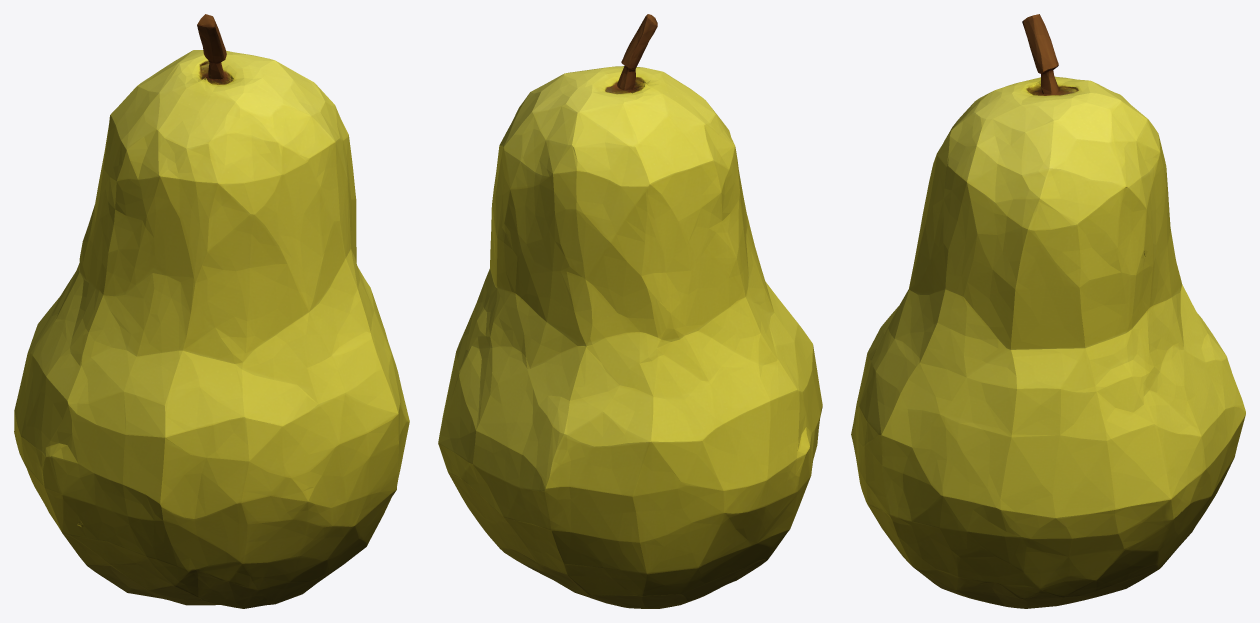
3 renders of one model, left to right at view 1: azimuth 30°, elevation 25°; view 2: azimuth 150°, elevation 25°; view 3: azimuth 270°, elevation 25°, orthographic.
Parts seen in each view (by area): view 1: geometry_0; view 2: geometry_0; view 3: geometry_0.
Part boxes in pixels (<box>): geometry_0: <box>14,14,409,608</box>; geometry_0: <box>438,14,822,608</box>; geometry_0: <box>851,14,1245,608</box>.
Bounding box in the file's own units: 0.6156 × 0.9959 × 0.628.
1 material, 1 textured.
